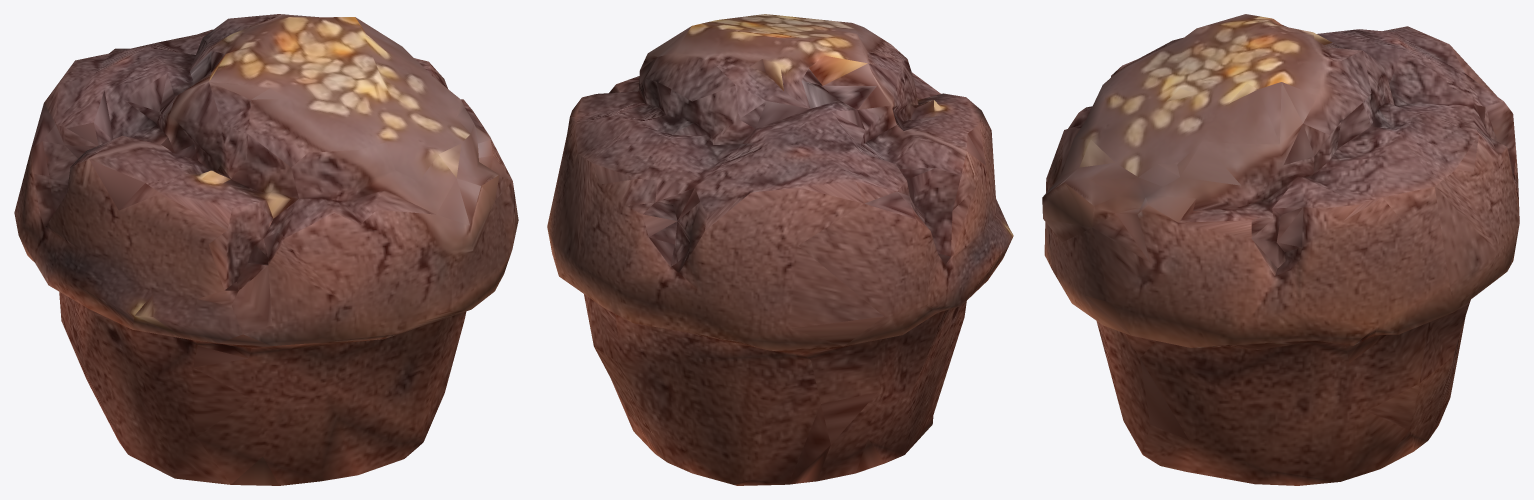
File: muffin_716.obj
The picture shows the model from 3 angles, left to right: view 1: azimuth 30°, elevation 25°; view 2: azimuth 150°, elevation 25°; view 3: azimuth 270°, elevation 25°; orthographic projection. The views are drawn at different scales.
Bounding box in the file's own units: 14.26 × 12.99 × 14.3.
1 material, 1 textured.
